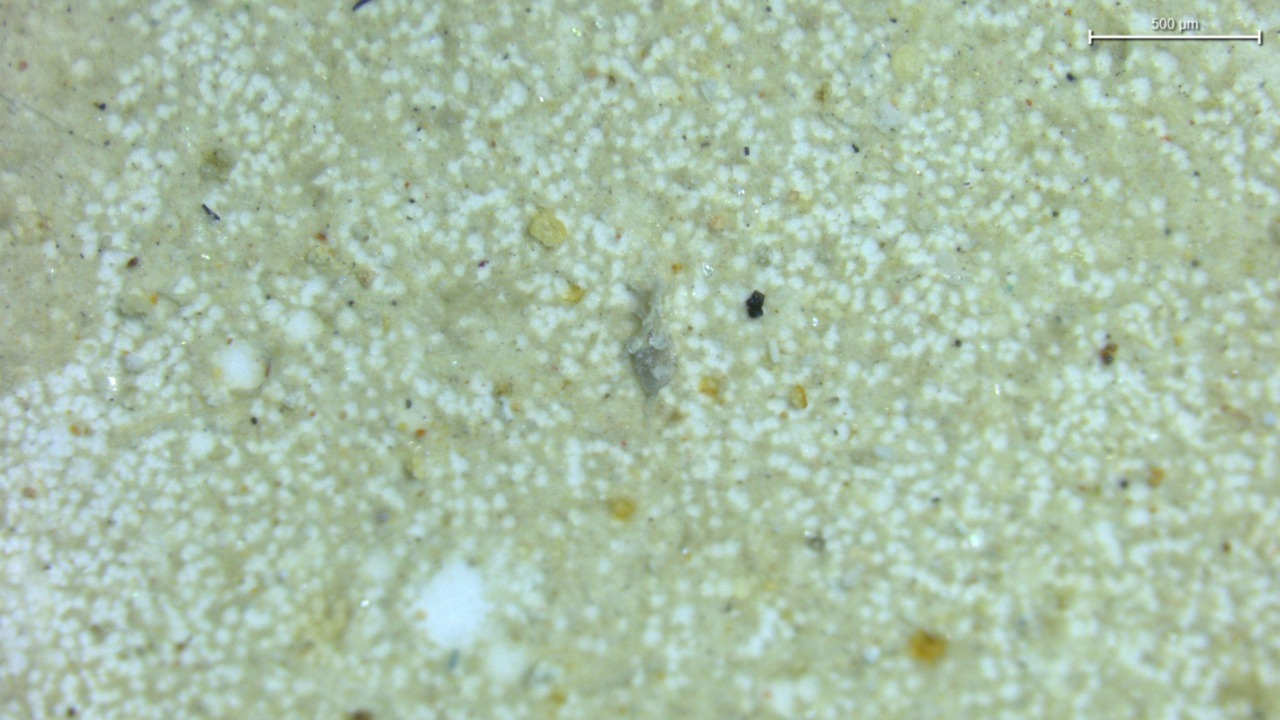microplastic_fragment: (627, 287, 675, 396), (528, 210, 568, 247)
